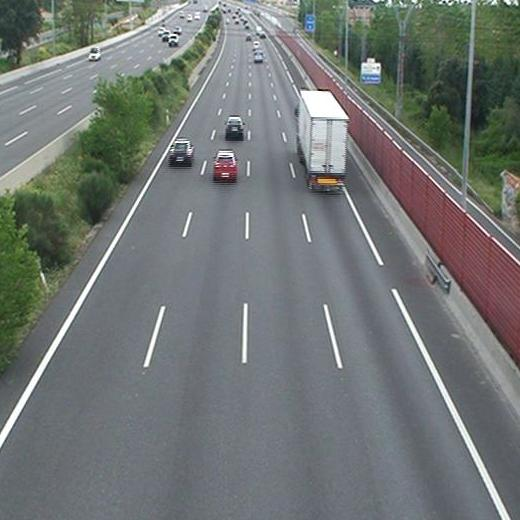car: (213, 152, 237, 179), (169, 140, 193, 163), (225, 117, 243, 136)
truck: (297, 90, 347, 190)
van: (254, 49, 263, 63)
